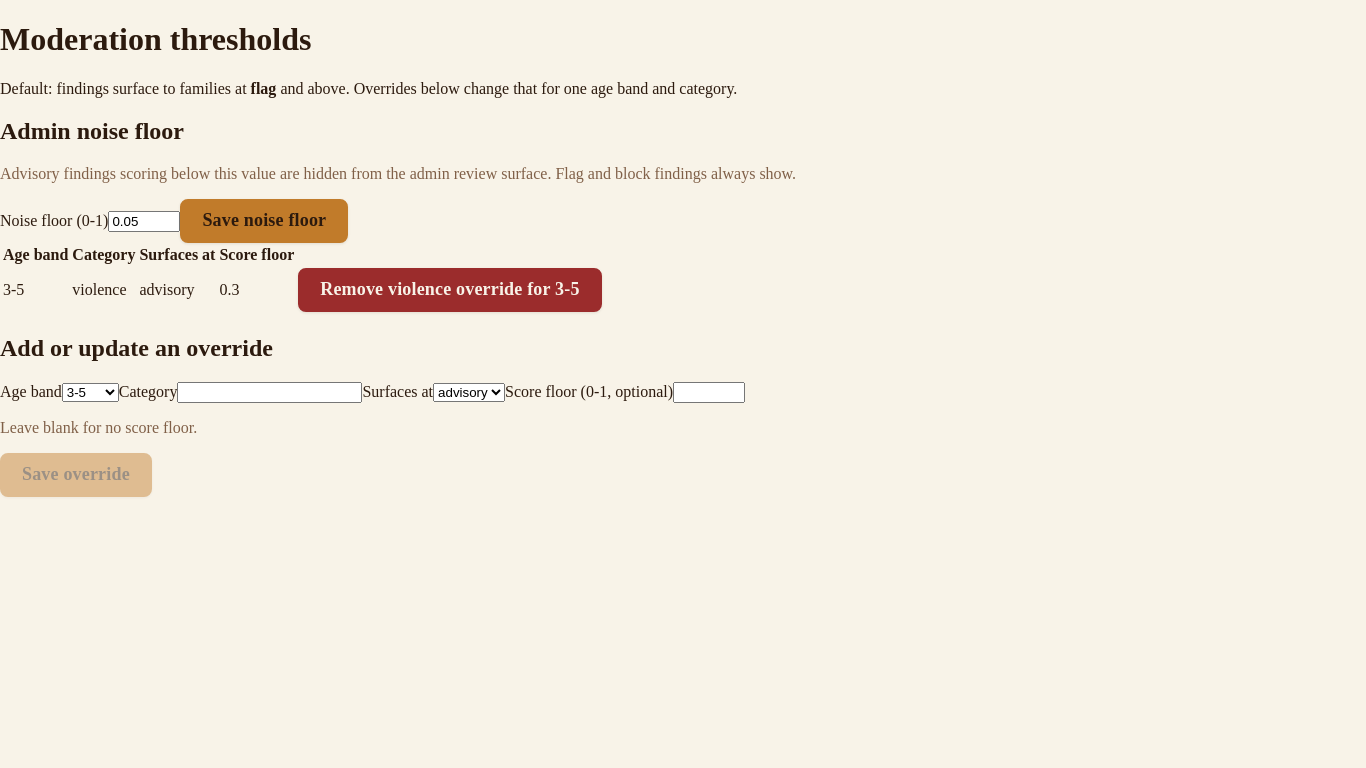
Test: ModerationThresholdsPage › warns inside the noise-floor confirm when the value is above 0.3
Expected: the text "surface to families at" is shown, [0, 80, 251, 97]
Replace the text in the number field labelled "Noise floor (0-1)" with "0.4" at {"x": 144, "y": 222}, box [108, 211, 180, 232]
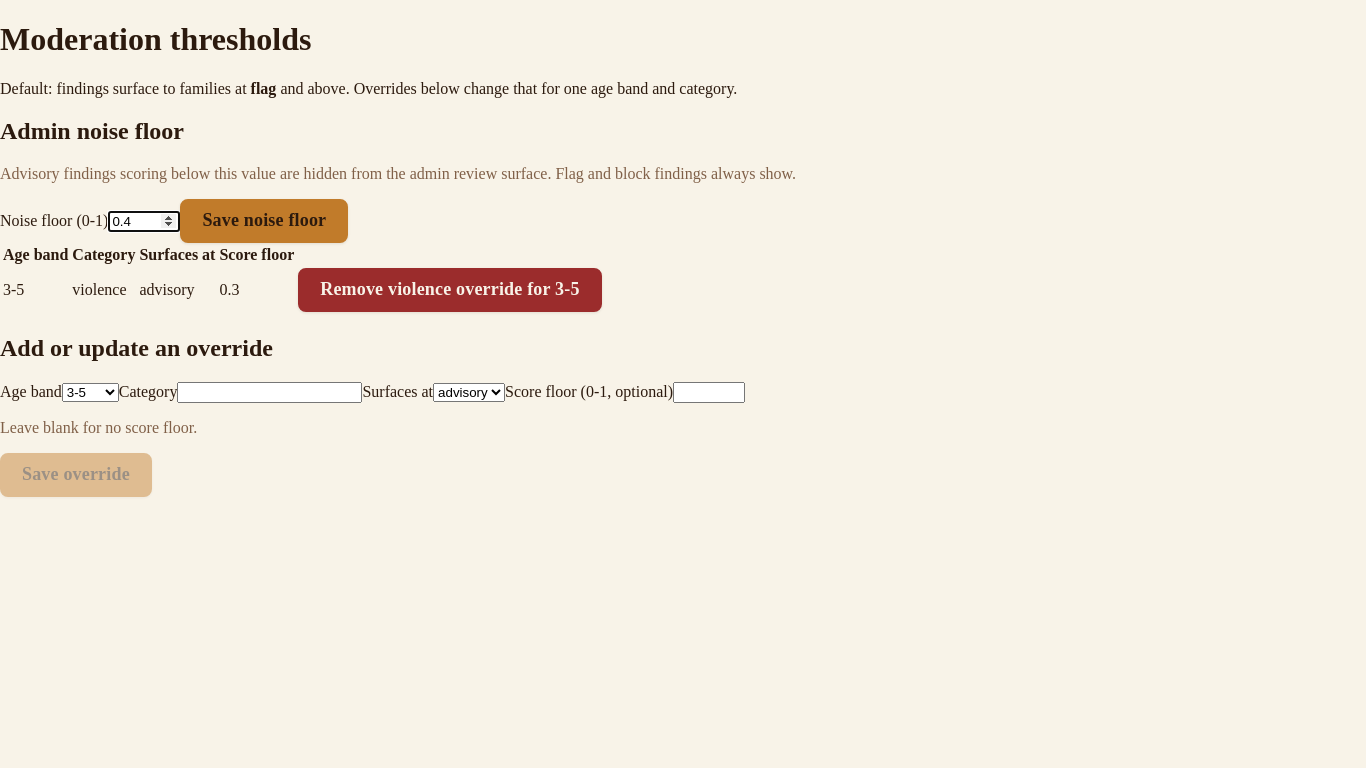
Click the button "Save noise floor" at {"x": 264, "y": 221}, box [180, 199, 348, 243]
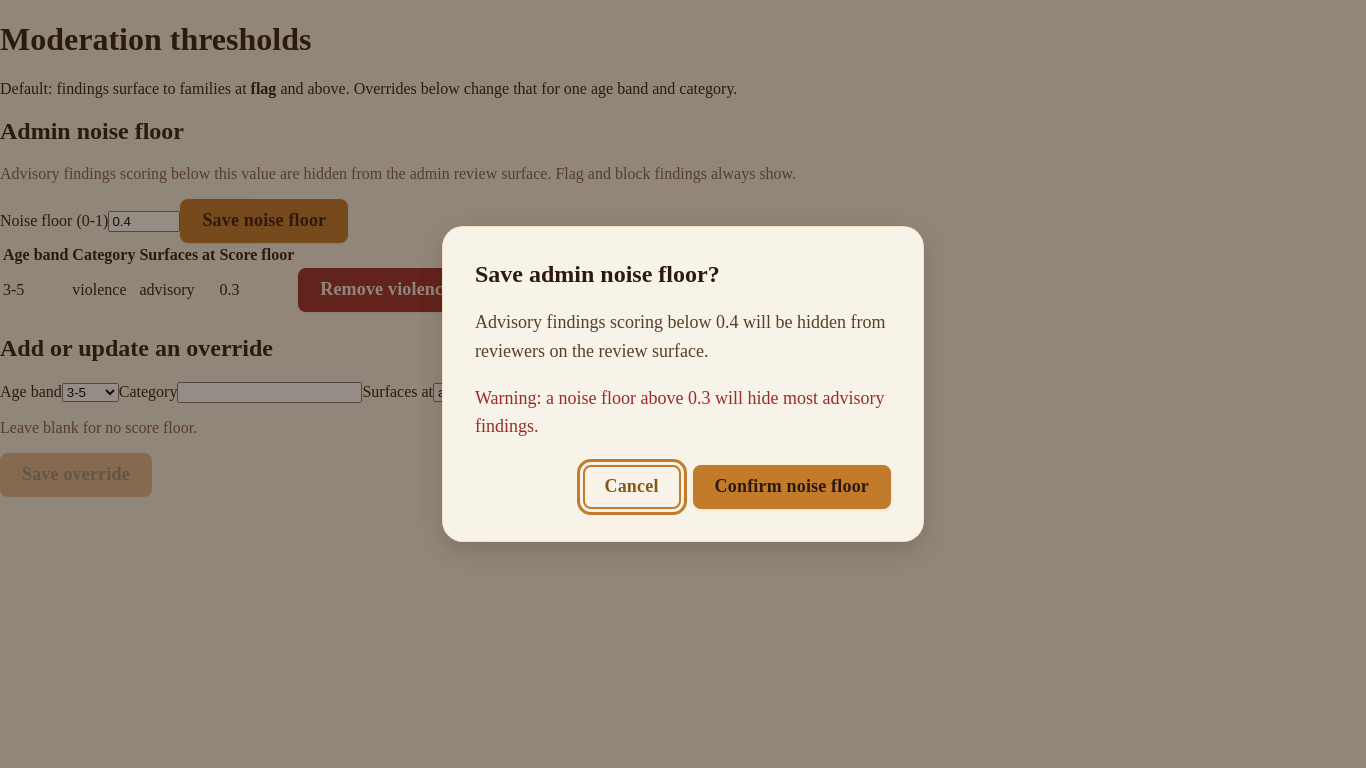
Expected: the dialog shows "Advisory findings scoring below 0.4 will be hidden from reviewers on the review surface.", [443, 227, 923, 541]
Expected: the dialog shows "will hide most advisory findings", [475, 388, 884, 436]
